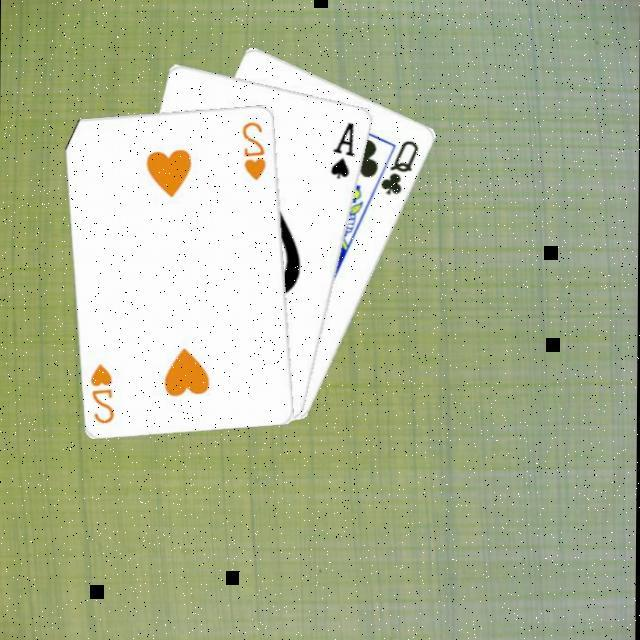2H: (237, 116, 267, 182), (86, 359, 116, 425)
AS: (326, 117, 356, 181)
QC: (376, 136, 421, 198)
